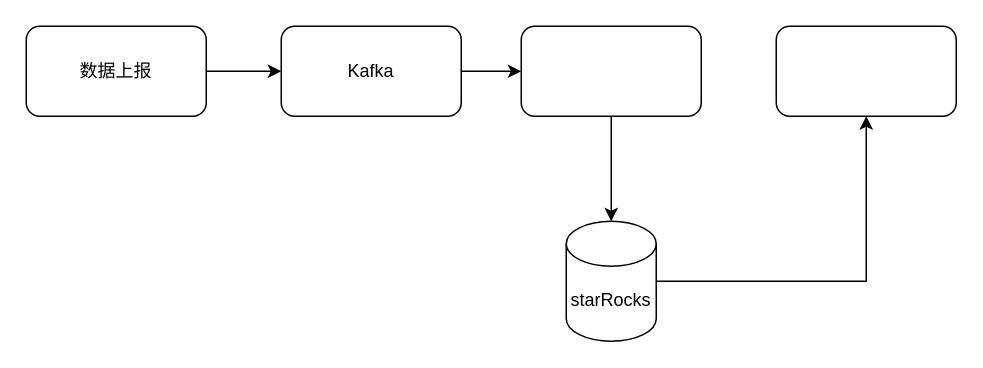
The diagram is 983 pixels wide and 368 high, and some of its shapes have lost their labels. Each missing label, with the centre of its shape:
"Flink" goes at [610,70].
"告警" goes at [865,70].
